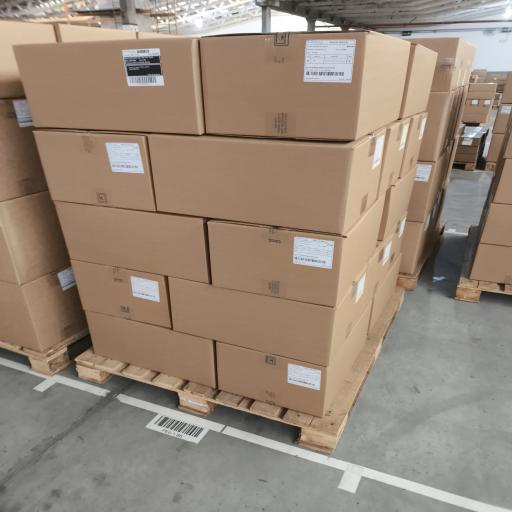pallet: (76, 287, 404, 453), (455, 225, 511, 302), (0, 329, 91, 376), (397, 221, 446, 290), (454, 162, 476, 170), (485, 162, 496, 172)
